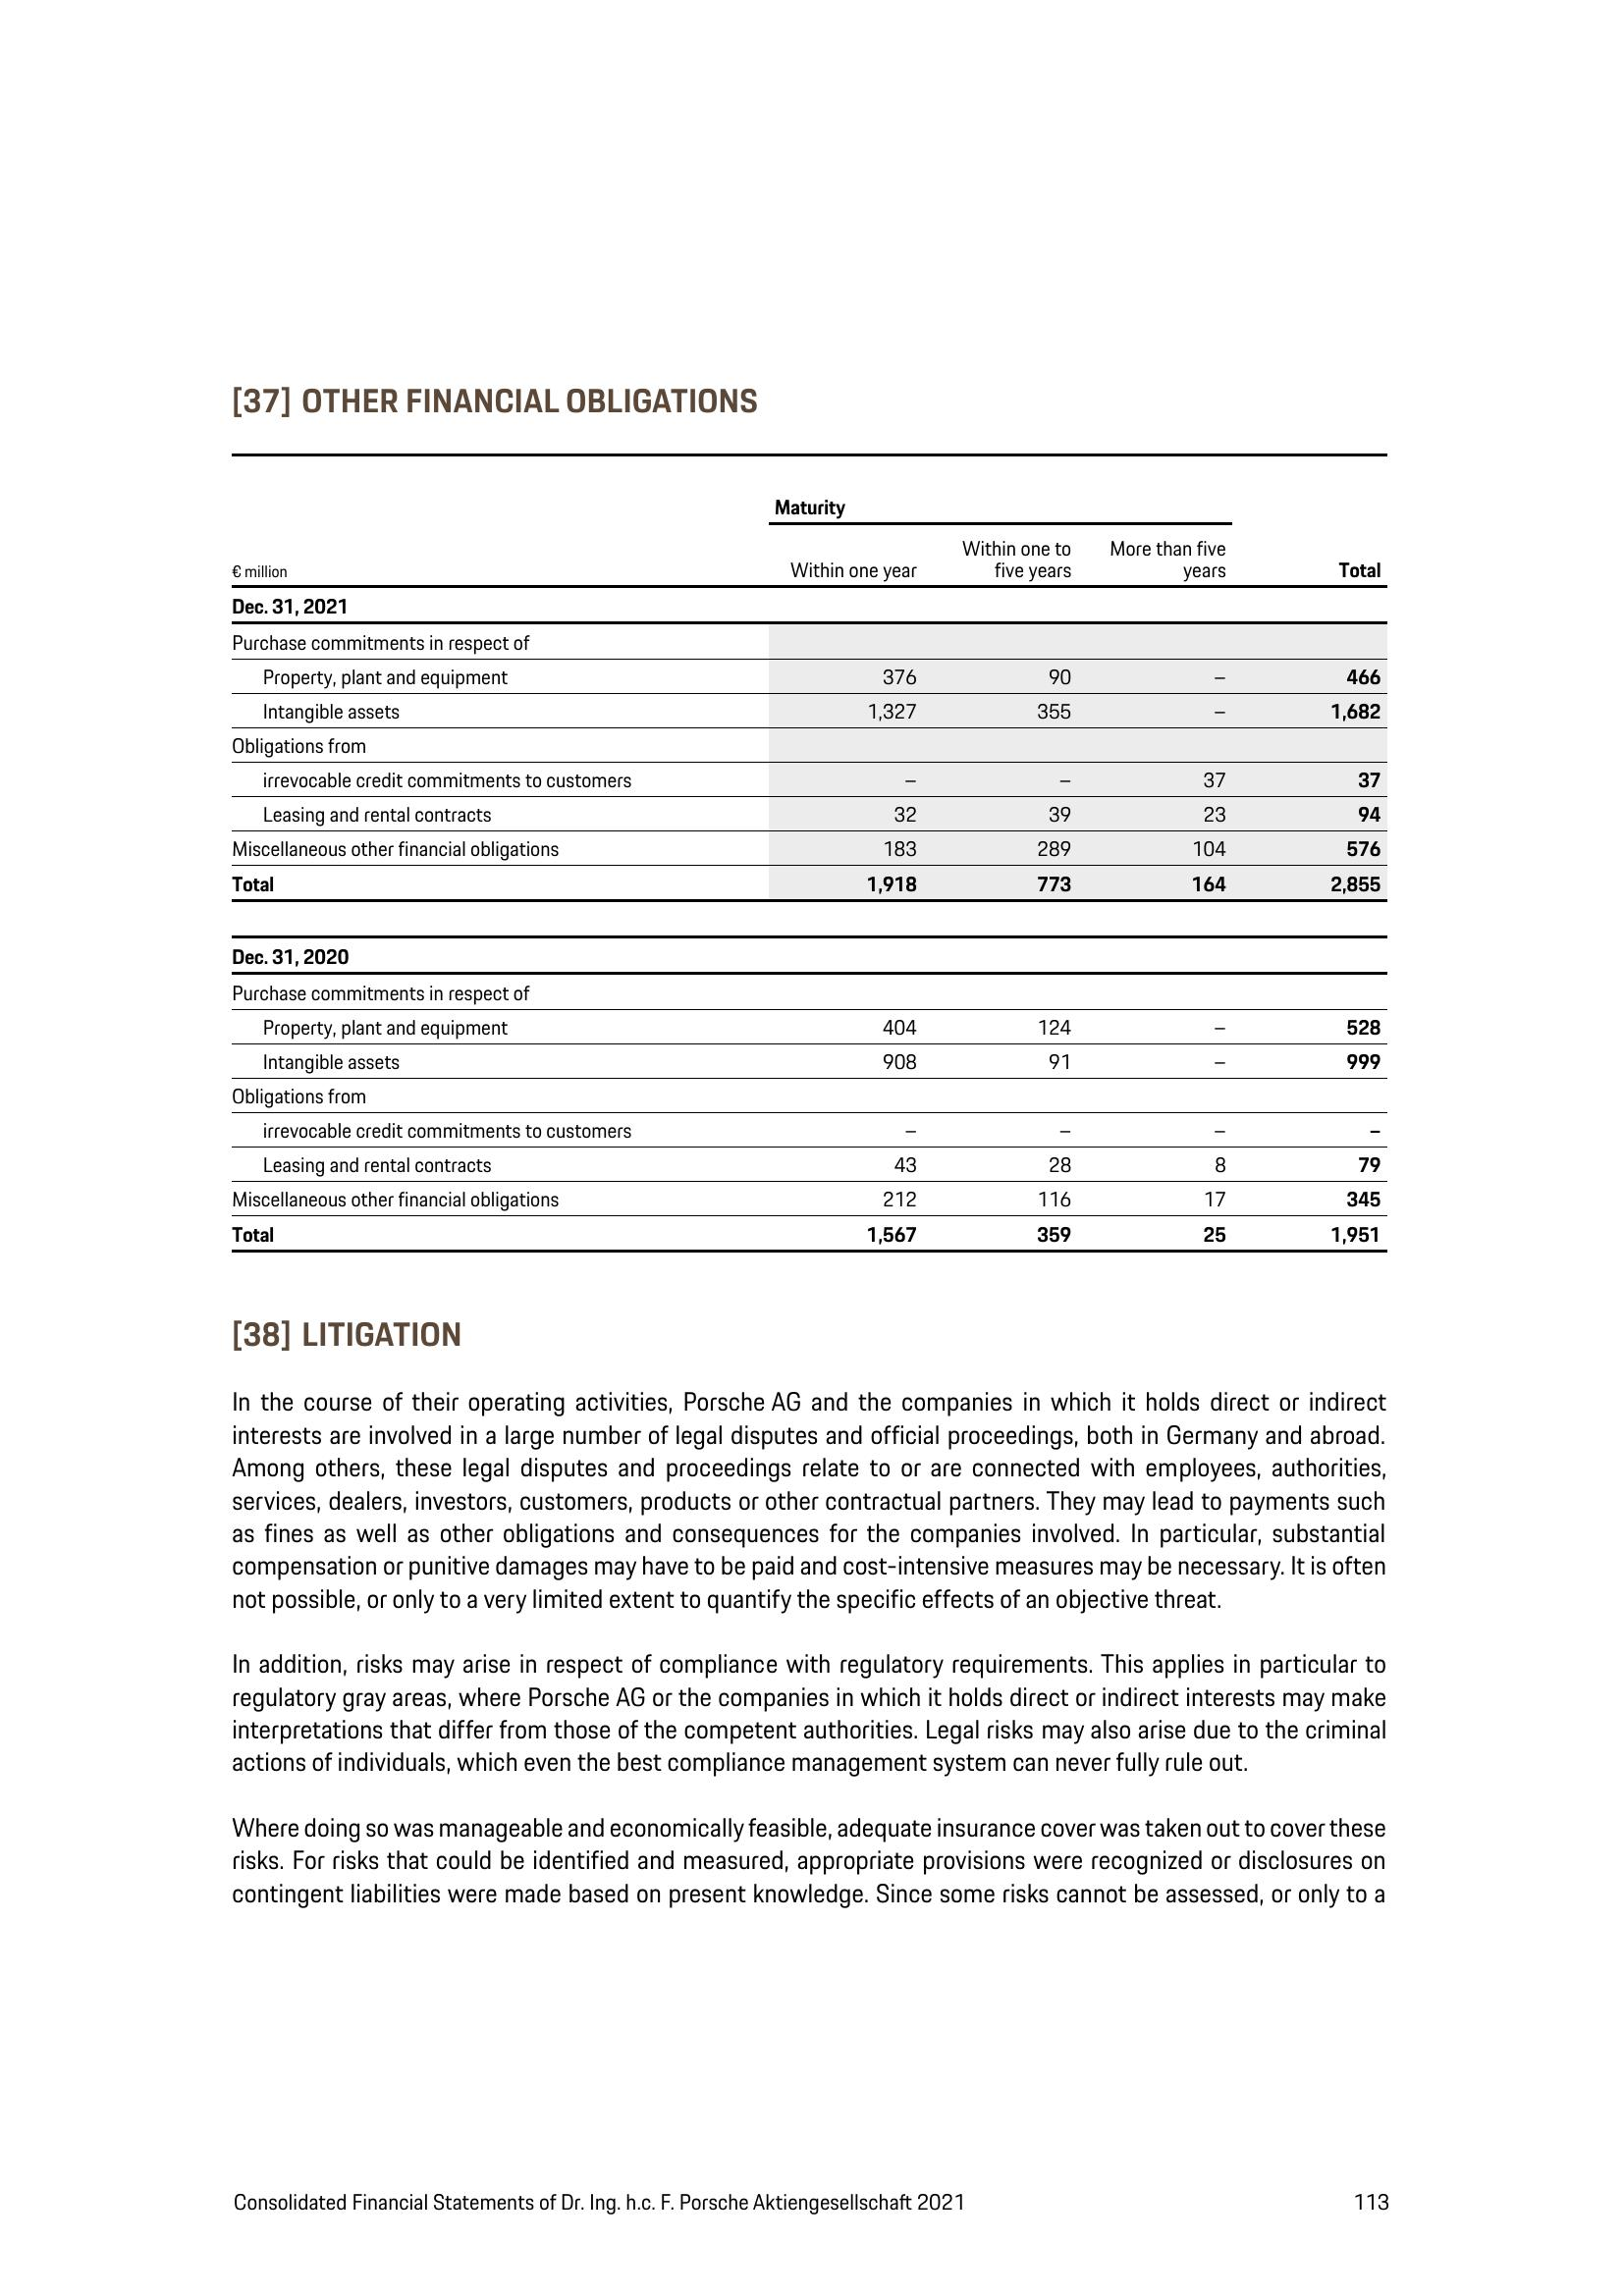Footer: (2, 2152, 1624, 2296)
Header: (0, 0, 1624, 228)
Table: (195, 443, 1420, 1267)
